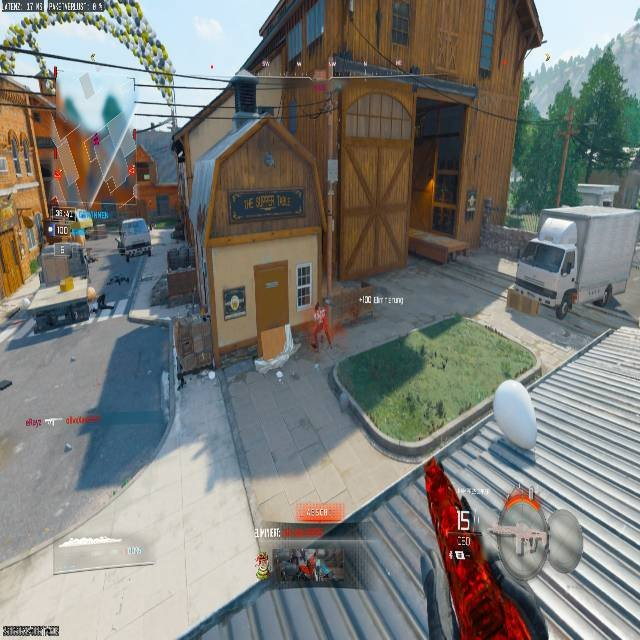player: (296, 546, 325, 587), (310, 303, 332, 350)
